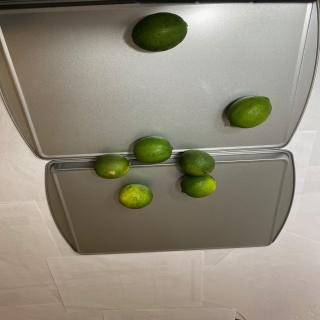Lemon: (131, 12, 188, 52), (227, 95, 272, 129), (133, 136, 173, 164), (94, 153, 130, 180), (179, 149, 215, 176), (118, 183, 153, 210), (180, 174, 216, 198)
